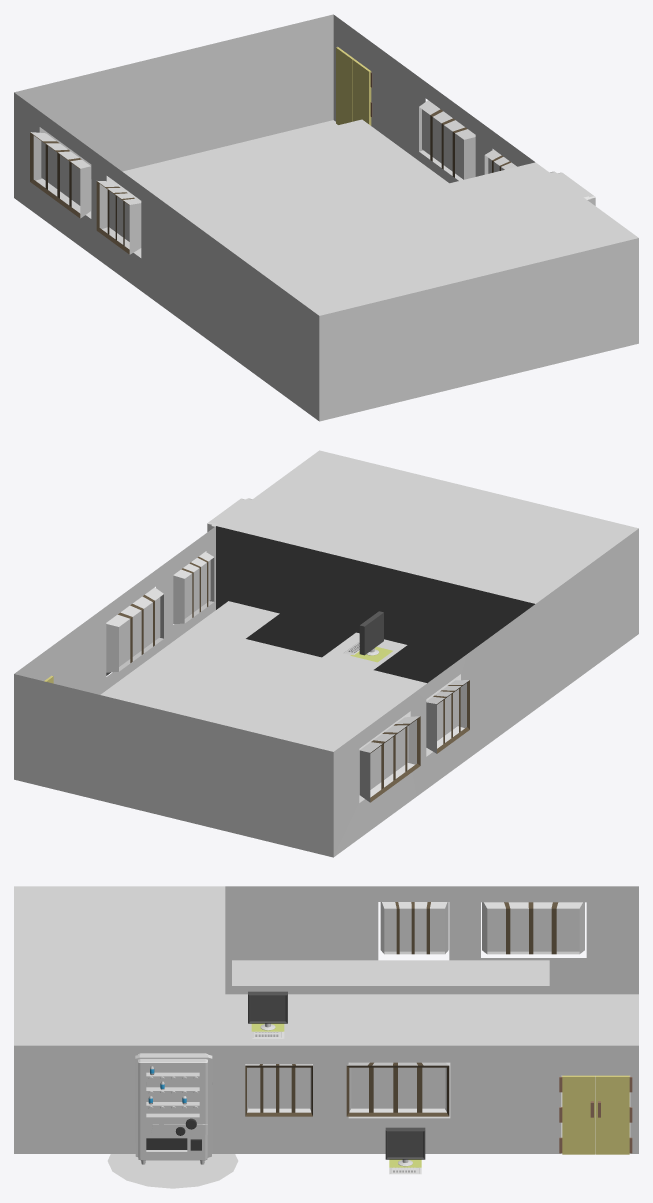
The model's file is vendingMachine.fbx.
3 renders of one model, top to bottom at view 1: azimuth 30°, elevation 25°; view 2: azimuth 150°, elevation 25°; view 3: azimuth 270°, elevation 25°, orthographic. The views are drawn at different scales.
Parts seen in each view (by area): view 1: lab_bounds, Plane.002, windows.001, windows, Plane.001, Plane; view 2: lab_bounds, Plane.002, windows.001, windows, keyboard.001; view 3: lab_bounds, Plane.002, windows, windows.001, baseShape, Circle, Plane, Plane.001, keyboard.001, monitor, stackCase.
Boxes of the visible parts, <box> form: lab_bounds: <box>14,14,638,421</box>; Plane.002: <box>91,119,448,226</box>; windows.001: <box>30,132,141,254</box>; windows: <box>419,100,516,180</box>; Plane.001: <box>336,47,354,124</box>; Plane: <box>352,59,372,125</box>; lab_bounds: <box>14,450,638,857</box>; Plane.002: <box>100,601,460,784</box>; windows.001: <box>359,680,469,802</box>; windows: <box>106,552,214,672</box>; keyboard.001: <box>343,611,392,662</box>; lab_bounds: <box>14,886,638,1153</box>; Plane.002: <box>232,960,549,1108</box>; windows: <box>245,1062,449,1116</box>; windows.001: <box>380,902,584,954</box>; baseShape: <box>135,1053,212,1160</box>; Circle: <box>107,1154,238,1188</box>; Plane: <box>559,1075,595,1154</box>; Plane.001: <box>596,1075,632,1154</box>; keyboard.001: <box>248,991,287,1038</box>; monitor: <box>385,1127,425,1159</box>; stackCase: <box>146,1072,199,1110</box>.
Size of the model in its own units: 2866 by 756 by 3853.
